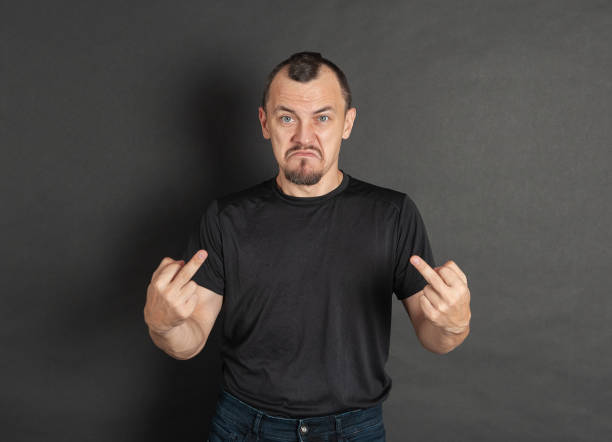insulting_gesture: (409, 255, 474, 340), (144, 247, 206, 332)
